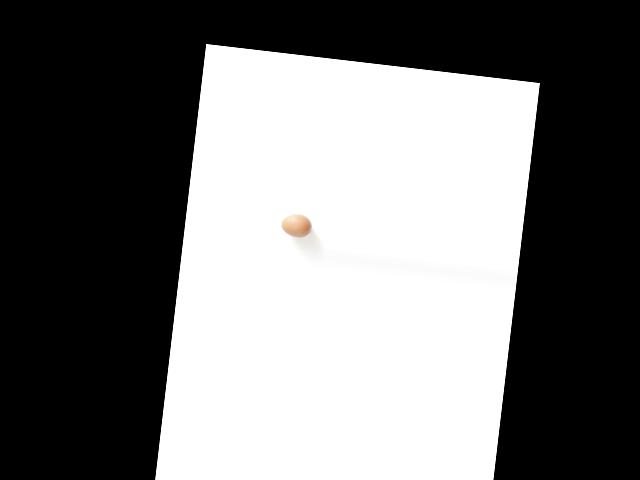egg: (280, 212, 313, 238)
